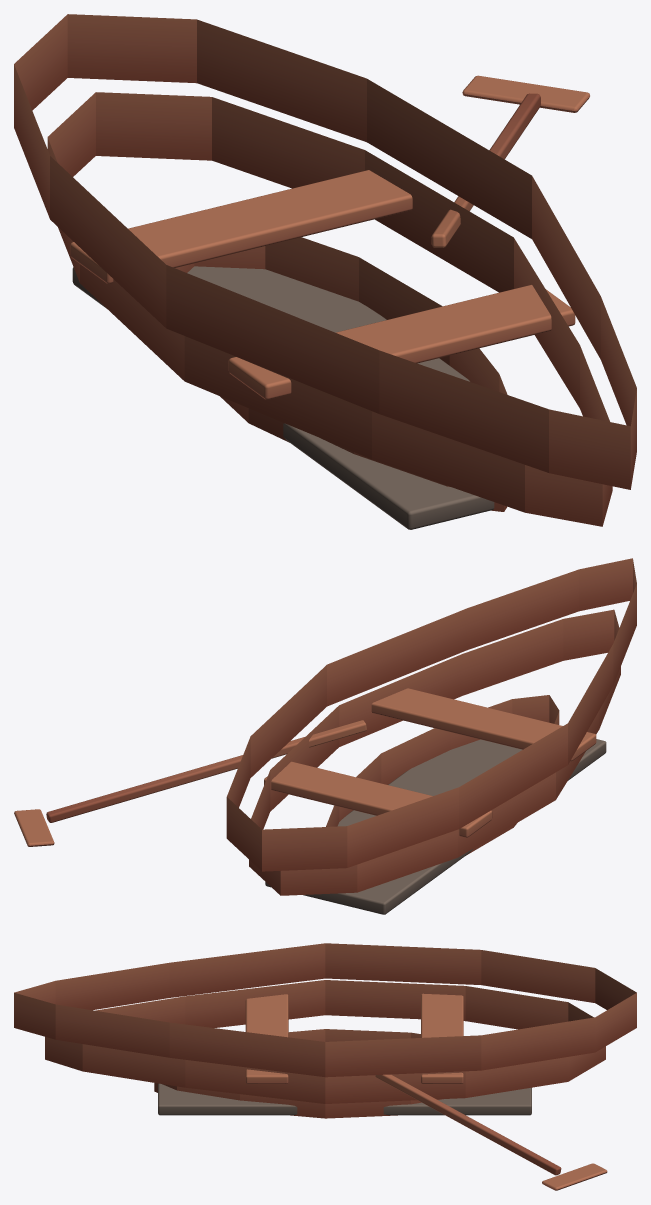
File: rowboat.glb
3 views of the same model, one above another, from view 1: azimuth 30°, elevation 25°; view 2: azimuth 150°, elevation 25°; view 3: azimuth 270°, elevation 25° (orthographic). The views are drawn at different scales.
Parts seen in each view (by area): view 1: rowboat; view 2: rowboat; view 3: rowboat.
Part boxes in pixels (x1=…): rowboat: x1=14, y1=14, x2=636, y2=529; rowboat: x1=14, y1=558, x2=636, y2=914; rowboat: x1=14, y1=943, x2=636, y2=1190.
Size of the model in its own units: 2.07 by 0.56 by 3.2.
1 material, 1 textured.
